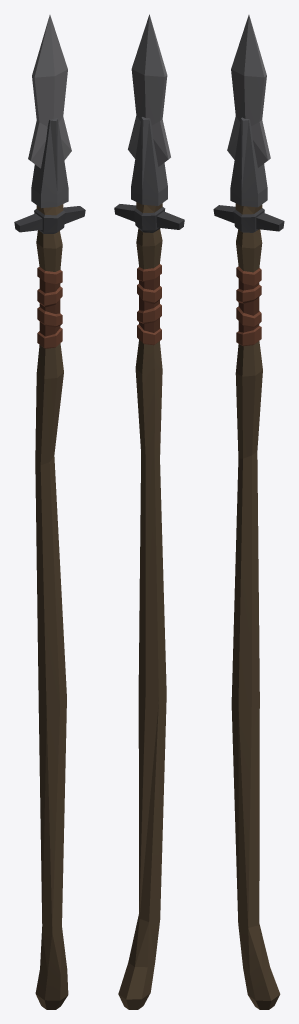
File: Vara_Pesca_02.glb
The picture shows the model from 3 angles, left to right: view 1: azimuth 30°, elevation 25°; view 2: azimuth 150°, elevation 25°; view 3: azimuth 330°, elevation 25°; orthographic projection.
Visible parts, largest first — view 1: SM_Wep_Spear_03; view 2: SM_Wep_Spear_03; view 3: SM_Wep_Spear_03.
Part boxes in pixels (left/top/right/bottom): SM_Wep_Spear_03: left=14, top=15, right=85, bottom=1009; SM_Wep_Spear_03: left=114, top=14, right=184, bottom=1009; SM_Wep_Spear_03: left=213, top=15, right=284, bottom=1009.
Bounding box in the file's own units: 0.1551 × 2.25 × 0.1035.
1 material, 1 textured.
